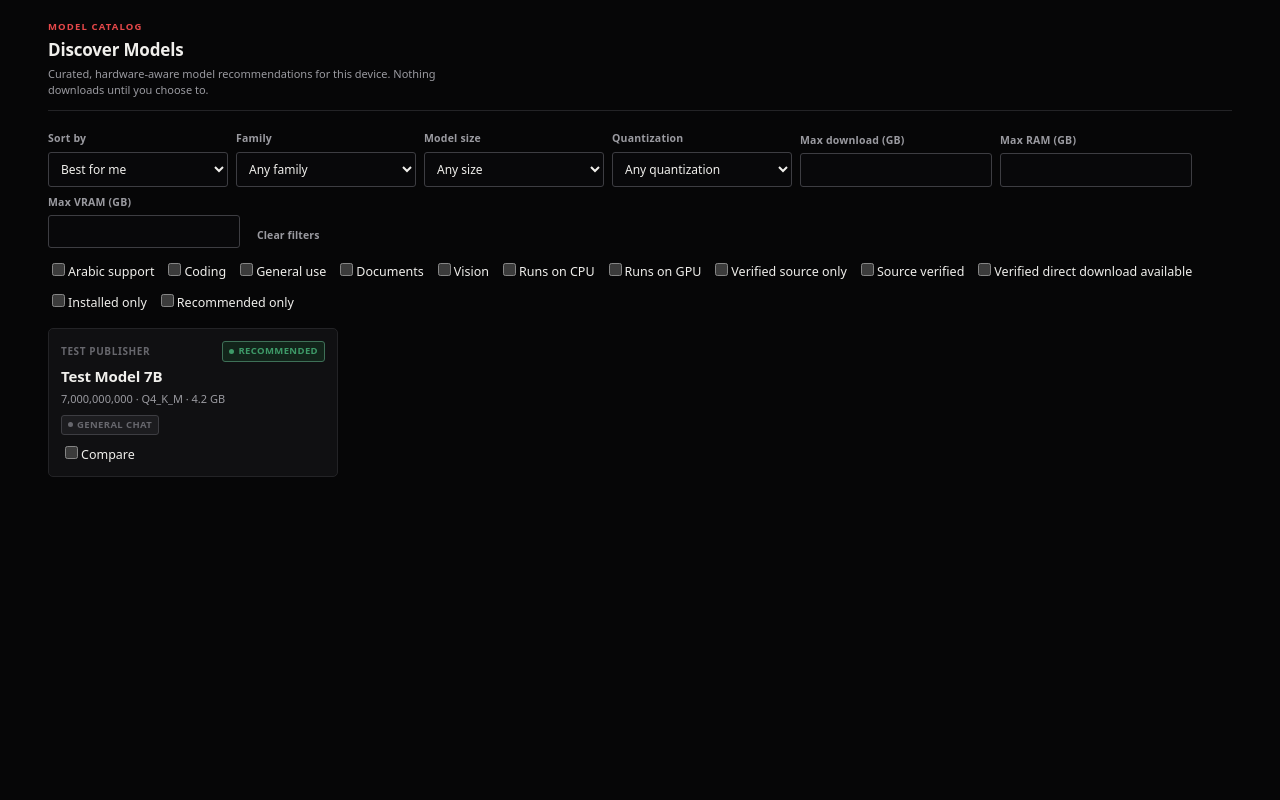
Discover page — model card navigation safety › renders an unknown-license model's details without crashing
Click the text "Test Model 7B". click: (112,376)
box: [61,366,162,386]
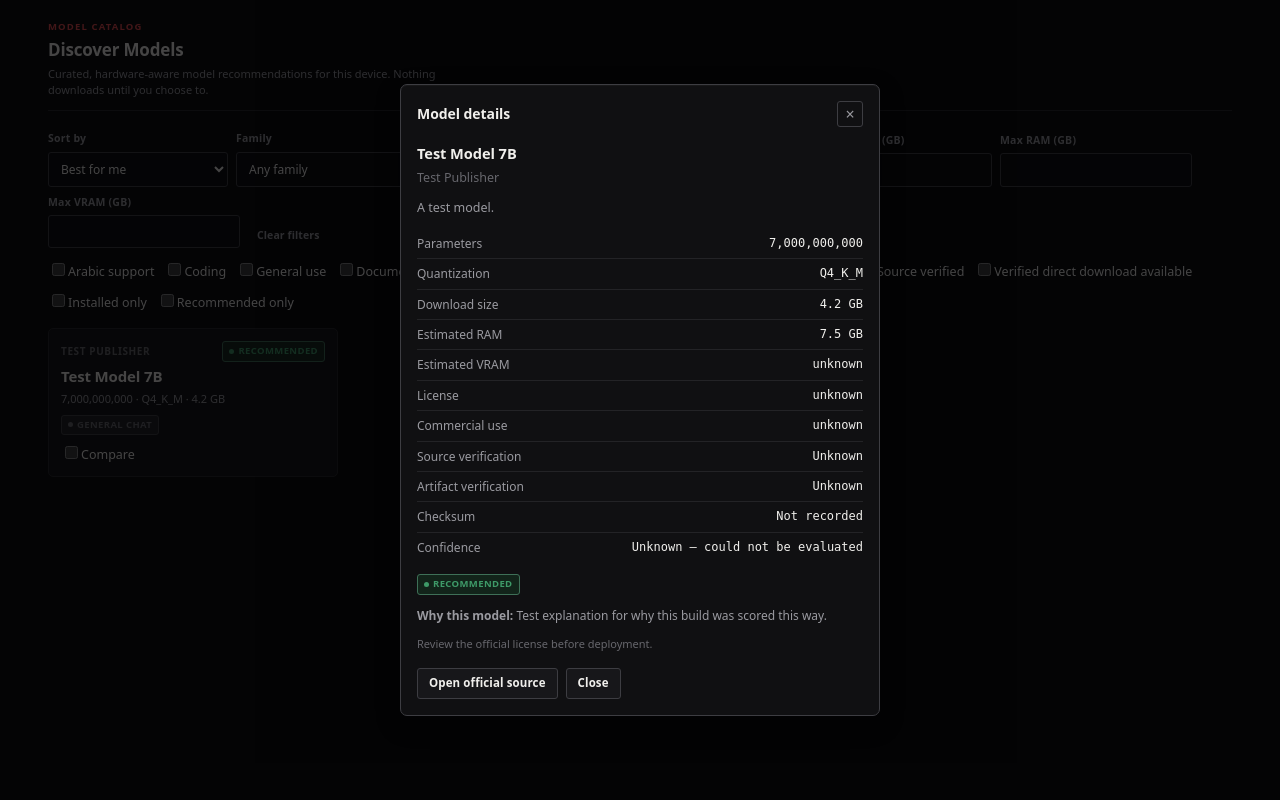
Expected: the text "License" is shown, [417,387,459,404]
Expected: the text "unknown" in the row of "Estimated VRAM" is shown, [812,357,863,371]
